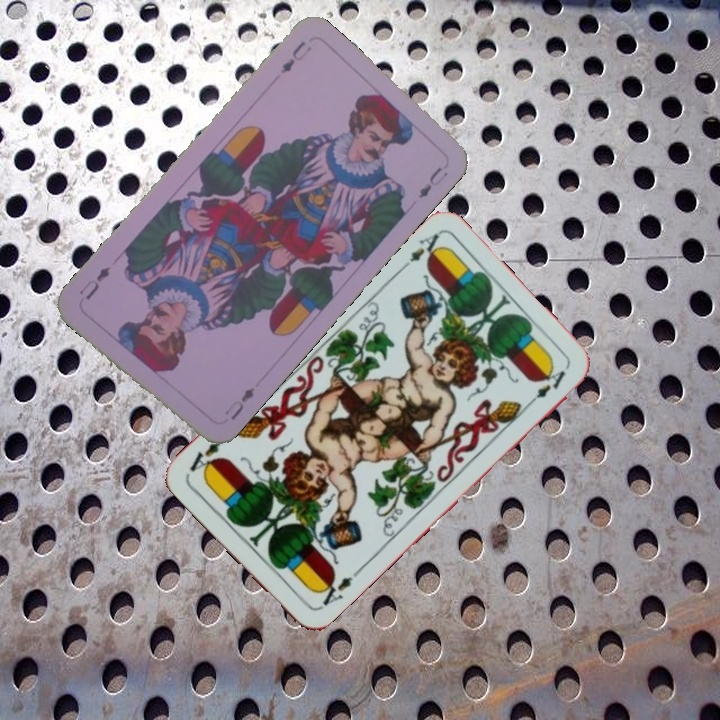EA: (395, 229, 447, 274), (313, 571, 355, 612)
EU: (220, 383, 257, 423), (277, 36, 314, 76)
